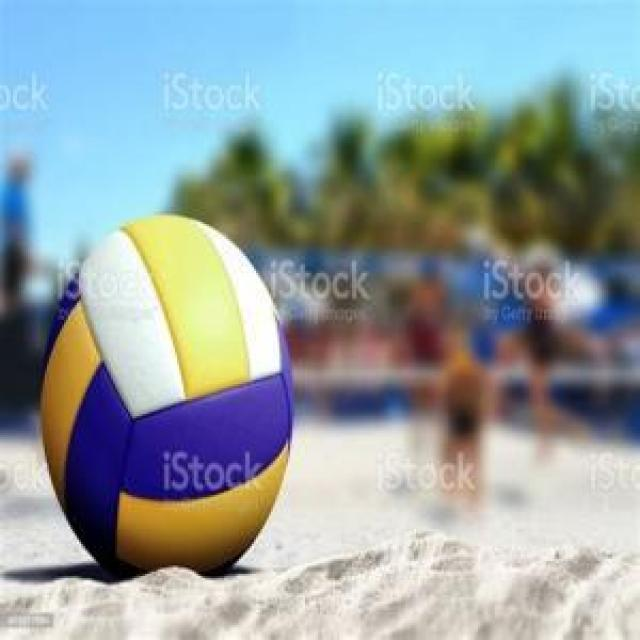volleyball: (39, 214, 294, 584)
